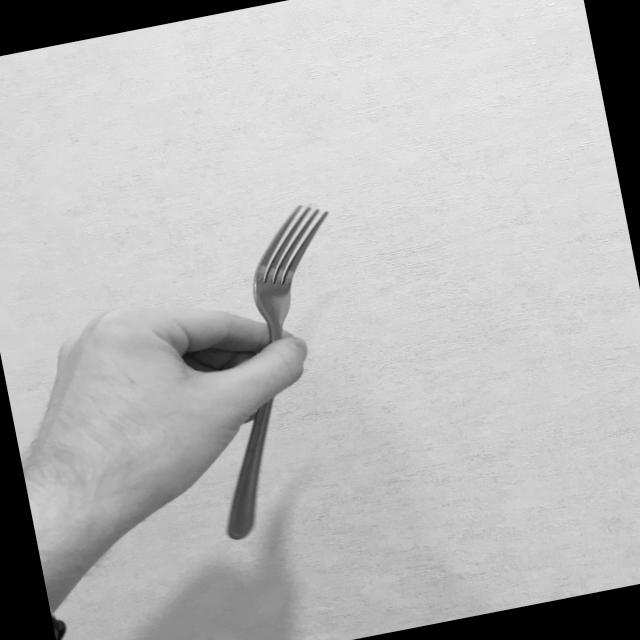fork: (169, 198, 389, 541)
